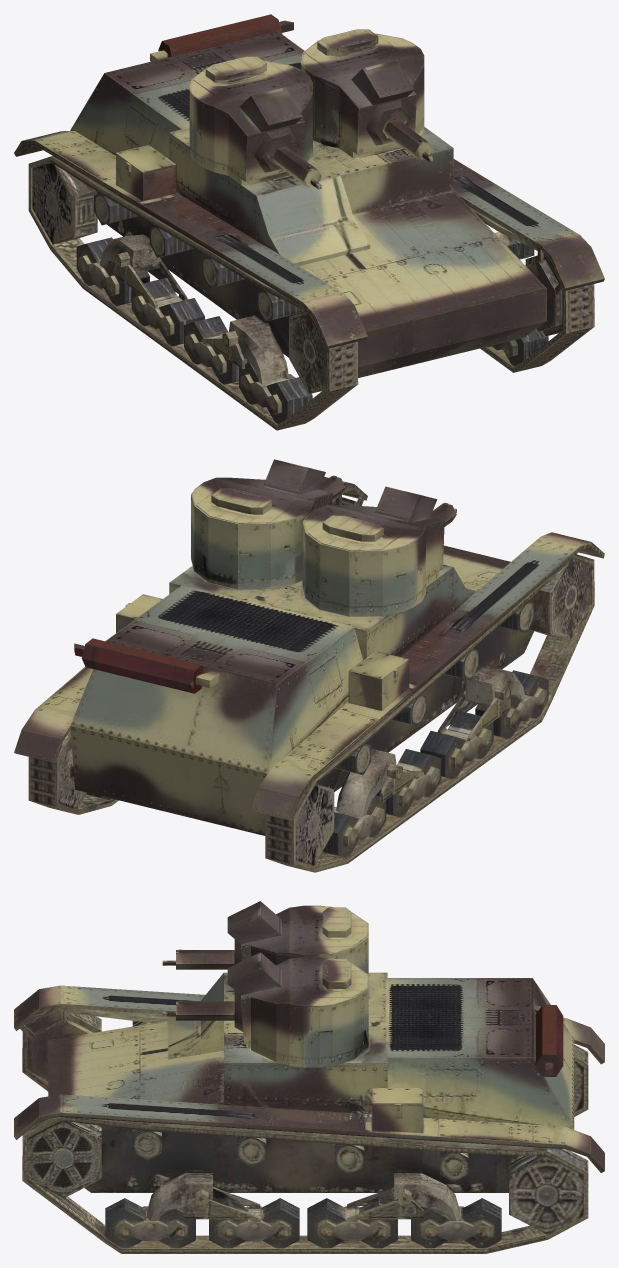
The model's file is polish_7tp_dw.glb.
3 views of the same model, one above another, from view 1: azimuth 30°, elevation 25°; view 2: azimuth 150°, elevation 25°; view 3: azimuth 270°, elevation 25° (orthographic). The views are drawn at different scales.
Parts seen in each view (by area): view 1: hull, turret2, turret; view 2: hull, turret2, turret; view 3: hull, turret, turret2.
Part boxes in pixels (bbox=[...]): hull: bbox=[14, 14, 604, 430]; turret2: bbox=[189, 56, 321, 189]; turret: bbox=[301, 29, 432, 161]; hull: bbox=[14, 476, 604, 872]; turret2: bbox=[302, 486, 456, 616]; turret: bbox=[191, 459, 345, 589]; hull: bbox=[14, 972, 604, 1253]; turret: bbox=[162, 952, 368, 1067]; turret2: bbox=[162, 901, 368, 974].
Size of the model in its own units: 1.04 by 0.946 by 2.
1 material, 1 textured.
